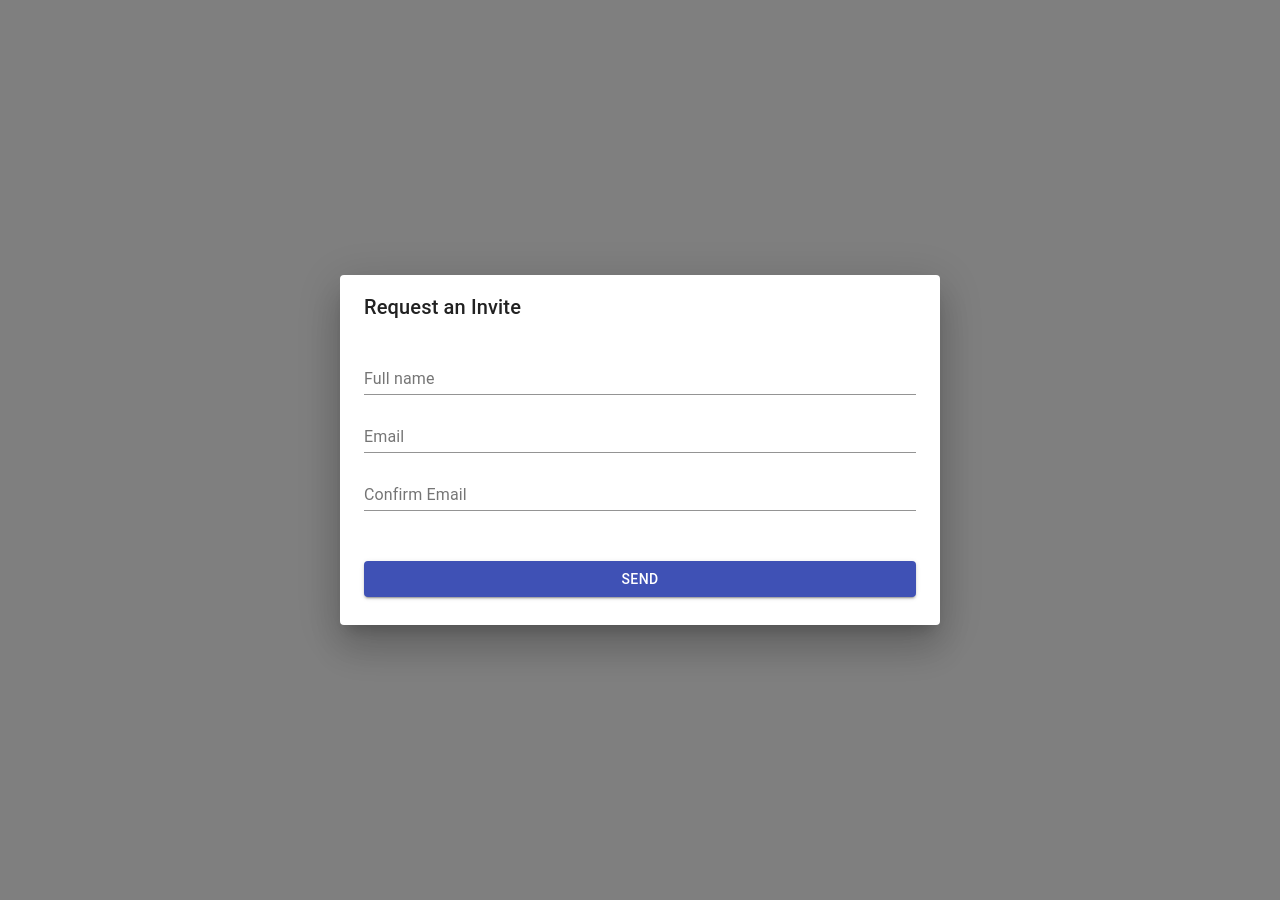
Test: Should show error on bad input › Invalid email
Step 1. Type "ss" into the field with placeholder "Please enter your email" → [640, 437], box [364,421,916,453]
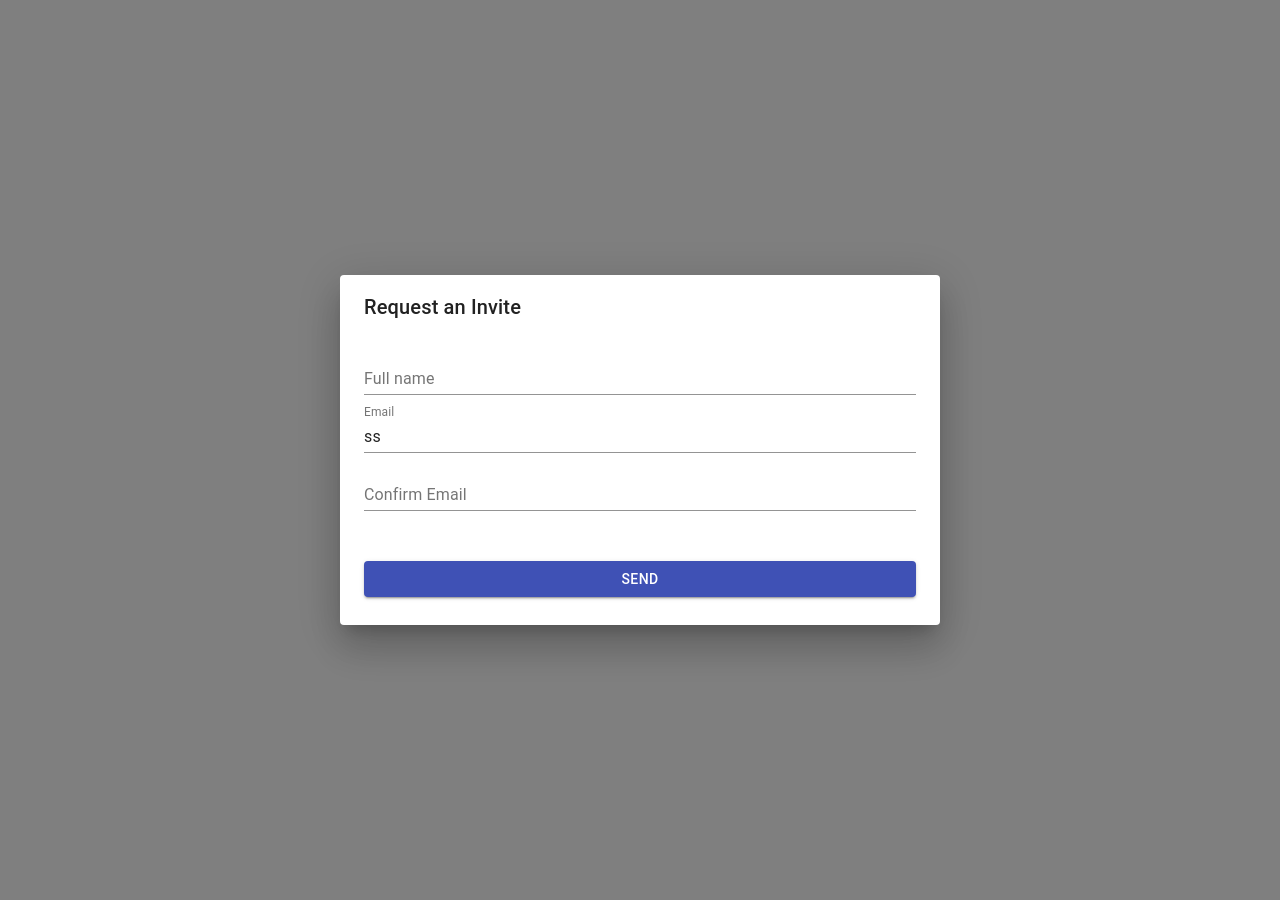
Step 2. Click the button "Send" → [640, 579], box [364,561,916,597]
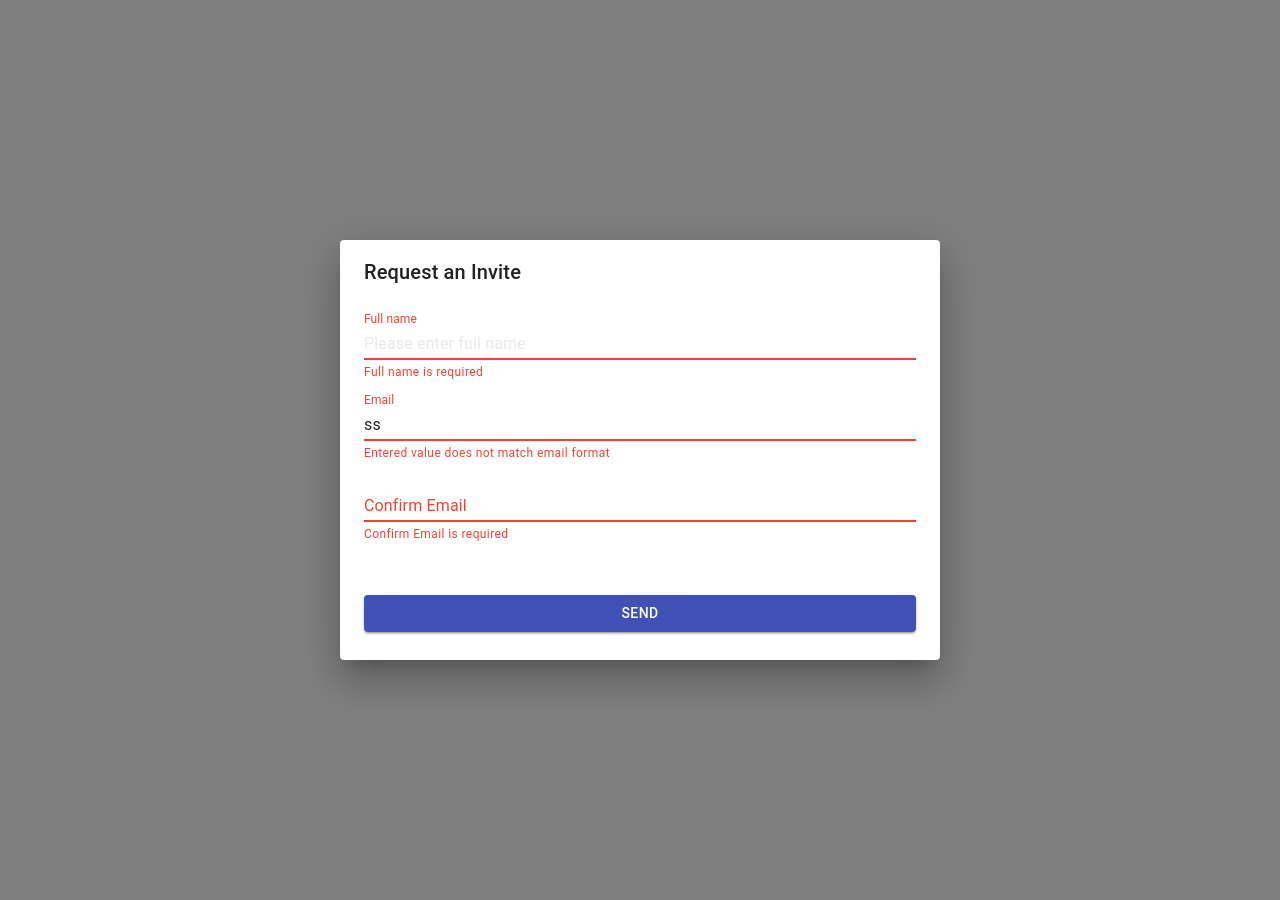
Now the text "Entered value does not match email format" is shown, box [364,446,610,460]
